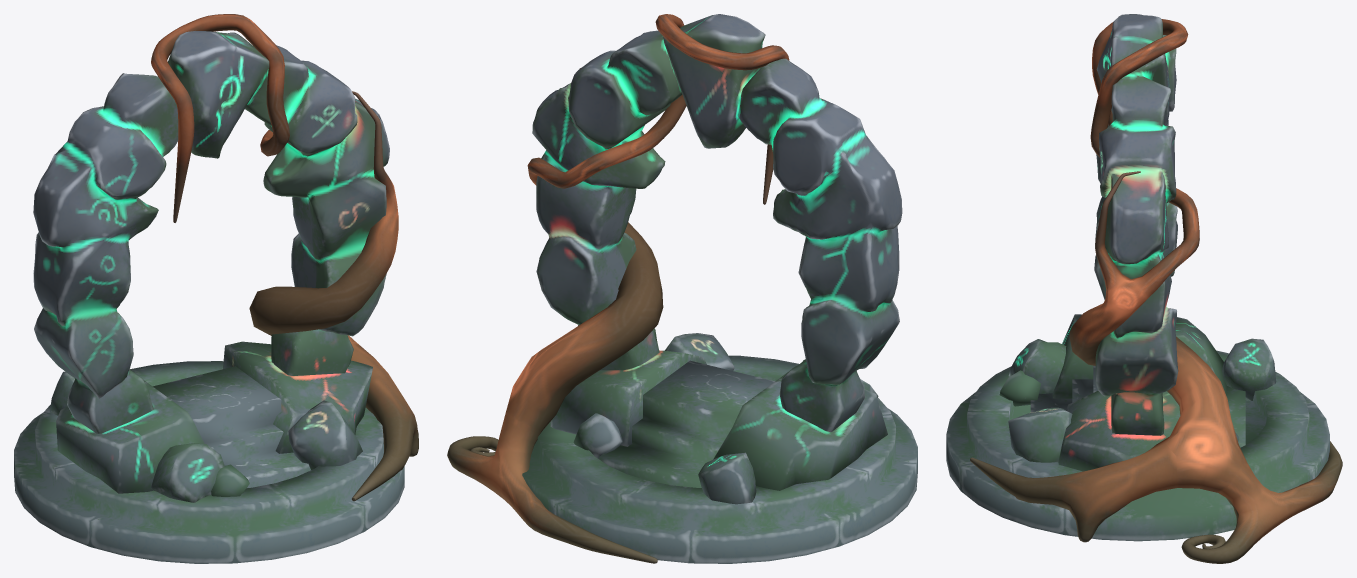
3 renders of one model, left to right at view 1: azimuth 30°, elevation 25°; view 2: azimuth 150°, elevation 25°; view 3: azimuth 270°, elevation 25°, orthographic. The views are drawn at different scales.
Visible parts, largest first — view 1: Arc, platform, tree, PreArc, Stupeni, LOW; view 2: Arc, platform, tree, PreArc, Stupeni, LOW; view 3: tree, Arc, platform, LOW, PreArc, Stupeni.
Boxes of the visible parts, <box> form: Arc: <box>33,31,389,433</box>; platform: <box>14,361,404,563</box>; tree: <box>151,14,418,501</box>; PreArc: <box>56,341,372,493</box>; Stupeni: <box>153,366,310,487</box>; LOW: <box>49,368,362,502</box>; Arc: <box>532,14,902,432</box>; platform: <box>522,355,917,563</box>; tree: <box>447,14,789,563</box>; PreArc: <box>550,350,887,490</box>; Stupeni: <box>599,360,774,487</box>; LOW: <box>573,333,878,504</box>; tree: <box>970,19,1342,563</box>; Arc: <box>1094,14,1178,435</box>; platform: <box>946,350,1329,541</box>; LOW: <box>999,338,1276,462</box>; PreArc: <box>1052,314,1226,471</box>; Stupeni: <box>1030,365,1245,447</box>.
Size of the model in its own units: 432 by 480 by 389.
Materials: 3 (3 with a texture image).
